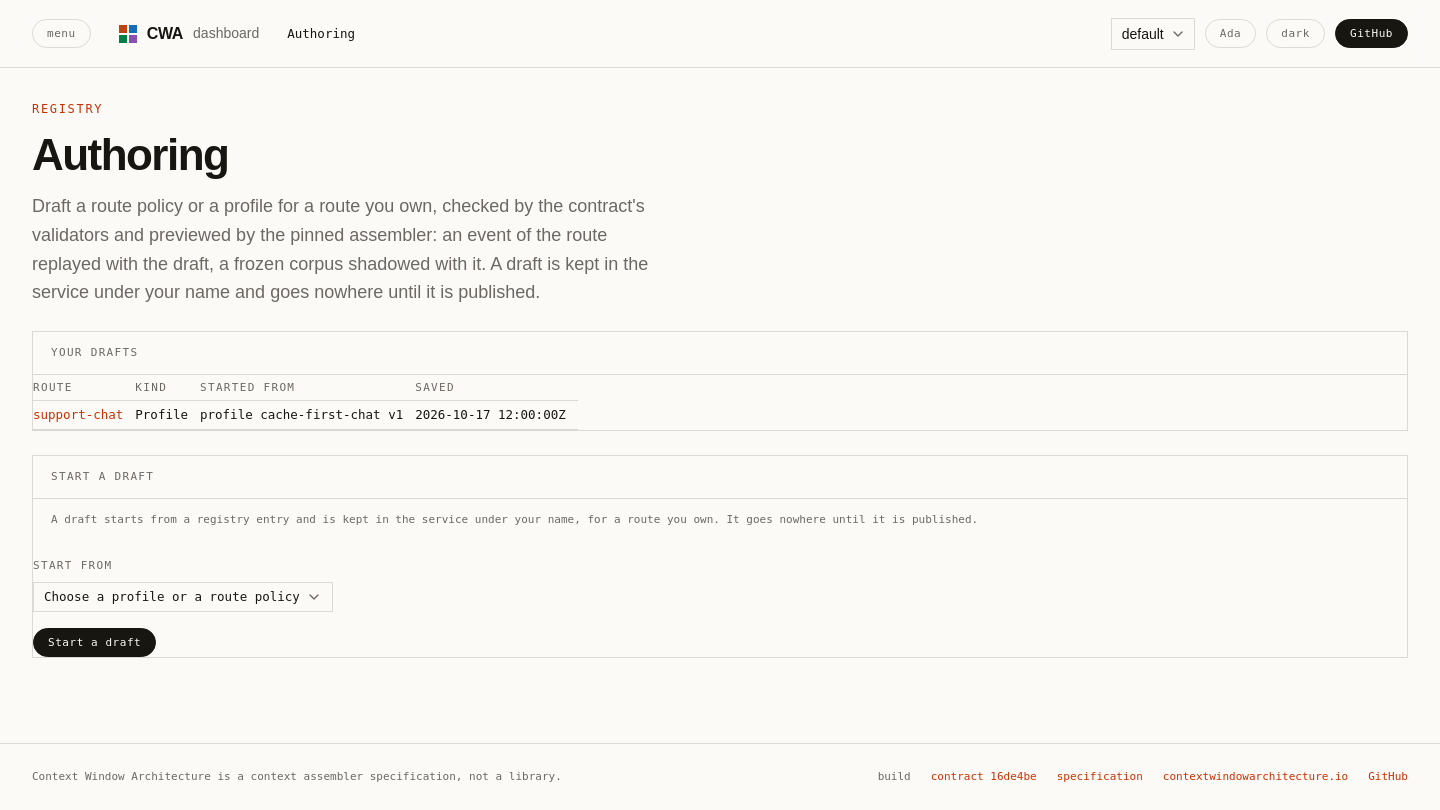
it: focus between the list and a draft › moves to the page's title when a draft opens, and again when the list comes back
Step 1. Click the link "support-chat" → (78, 415), box [33,407,123,422]
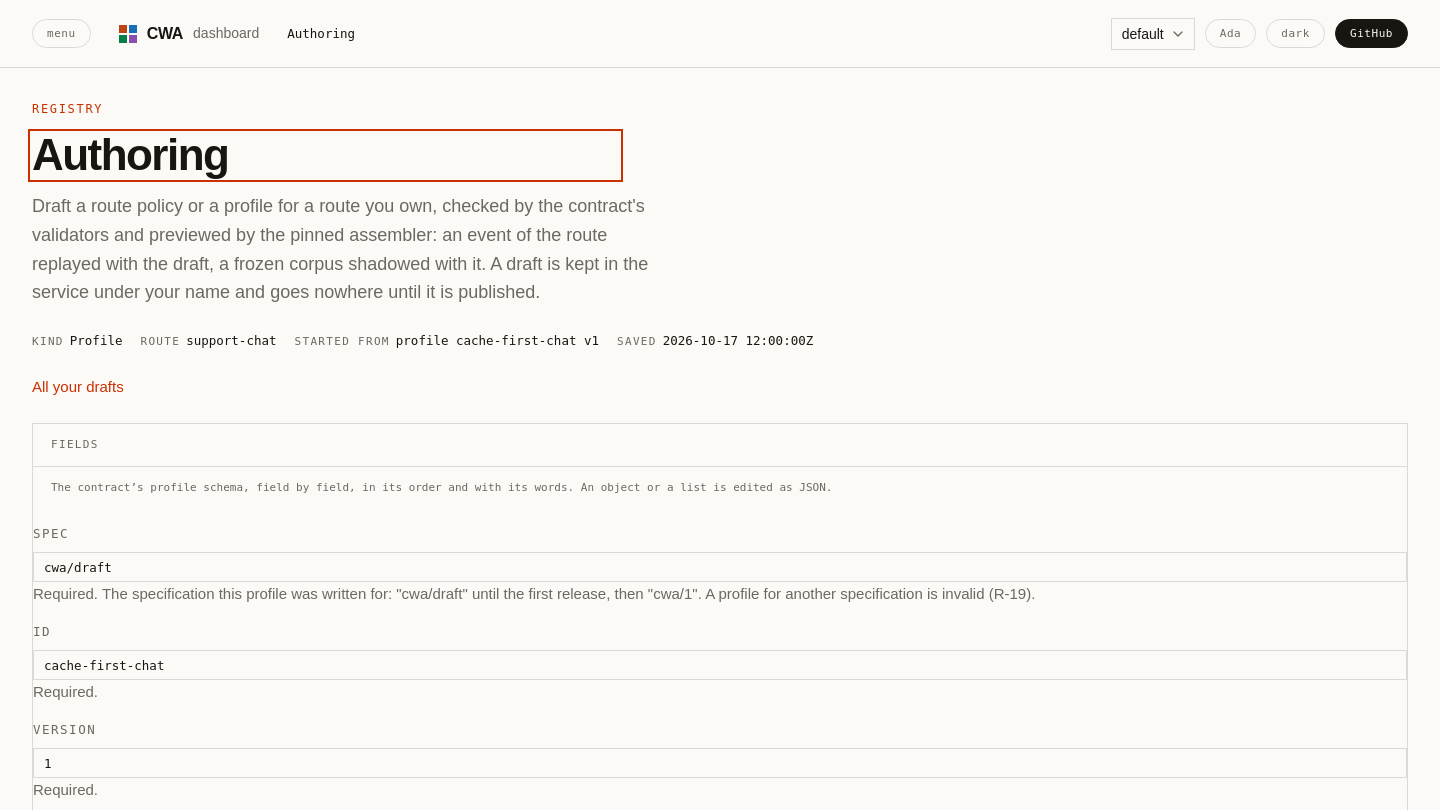
Now the field labelled "version" is shown, box [33,748,1407,778]
Step 2. Click the link "All your drafts" → (78, 387), box [32,378,124,395]
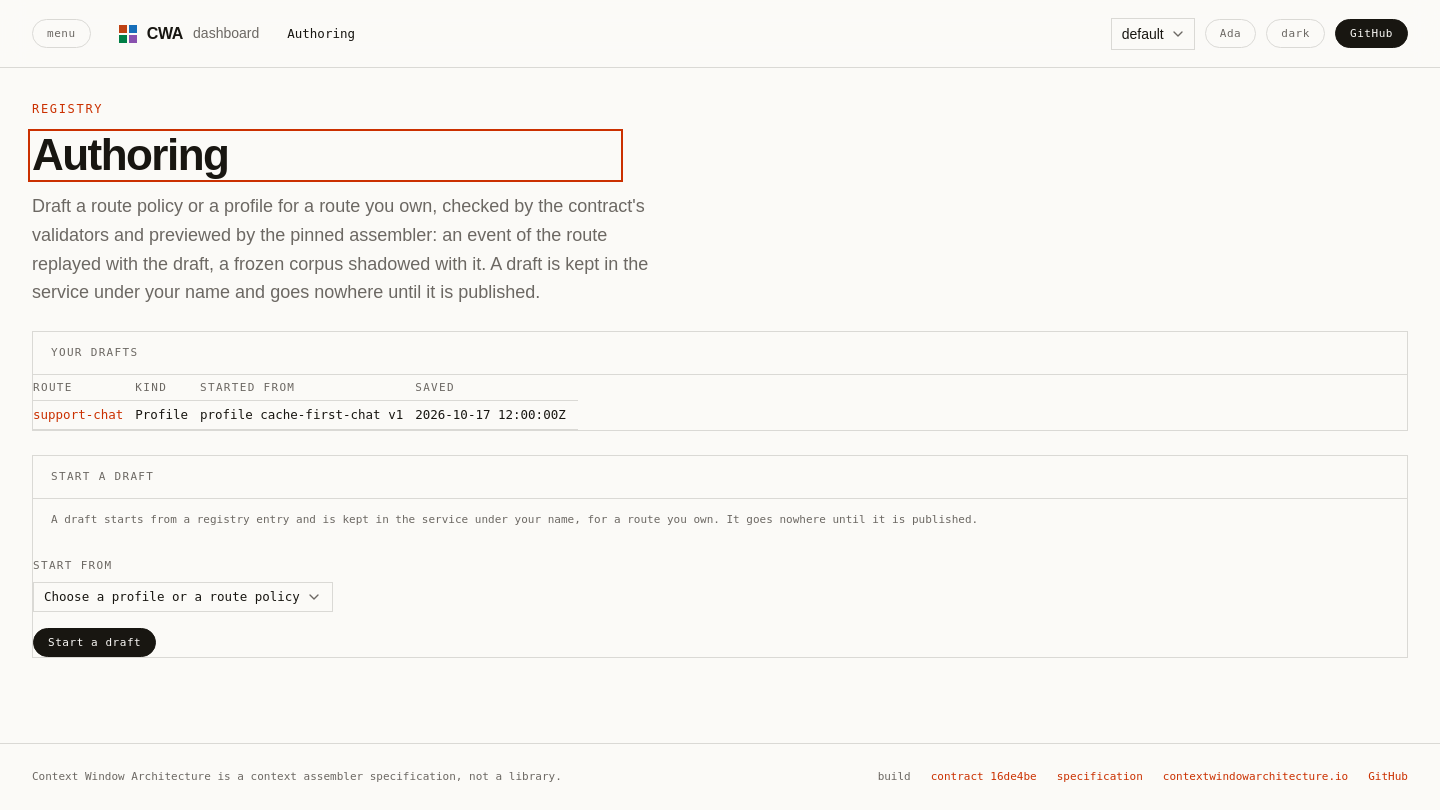
Now the table named "Your drafts" is shown, box [33,375,578,430]
